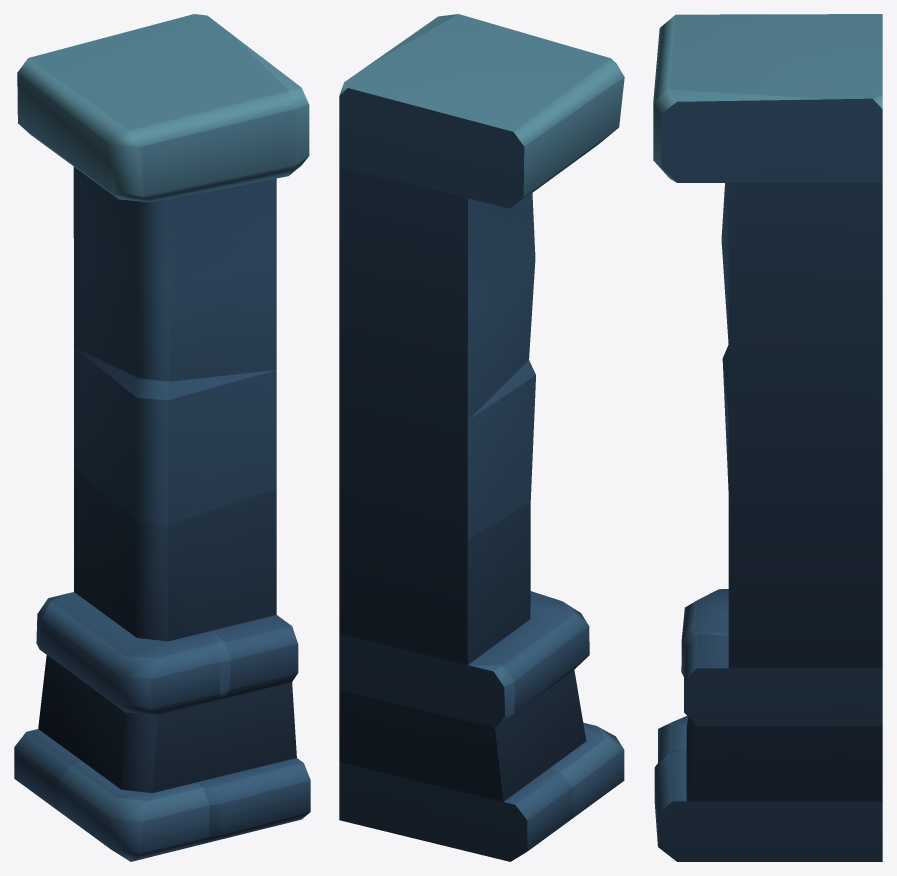
The model's file is wall_corner_convex.fbx.
3 views of the same model, side by side, from view 1: azimuth 30°, elevation 25°; view 2: azimuth 150°, elevation 25°; view 3: azimuth 270°, elevation 25° (orthographic). The views are drawn at different scales.
Parts seen in each view (by area): view 1: wall_corner_convex; view 2: wall_corner_convex; view 3: wall_corner_convex.
Boxes of the visible parts, left/top/right/bottom form: wall_corner_convex: left=14, top=14, right=310, bottom=861; wall_corner_convex: left=339, top=14, right=624, bottom=861; wall_corner_convex: left=653, top=14, right=882, bottom=861.
Bounding box in the file's own units: 111 × 410 × 112.
